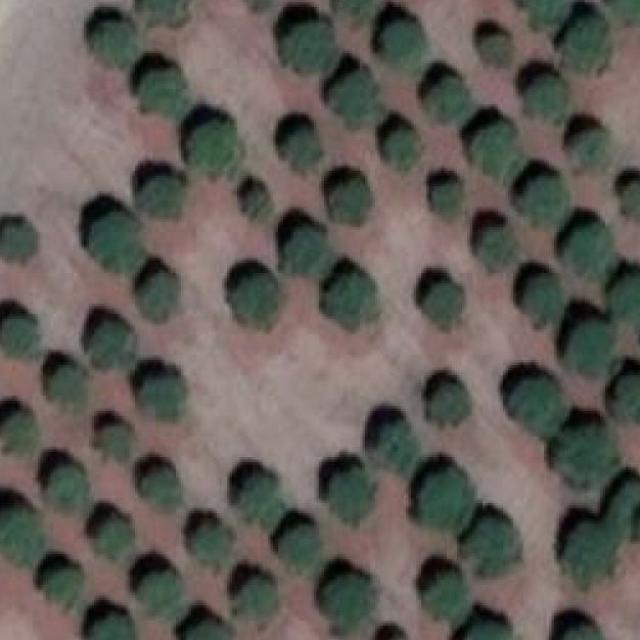Tree: (549, 424, 619, 489), (419, 467, 481, 534), (556, 12, 616, 74), (232, 268, 281, 337), (464, 516, 524, 572), (324, 273, 380, 329), (564, 523, 616, 583), (467, 125, 527, 176), (568, 319, 618, 380), (84, 215, 140, 269), (36, 462, 92, 516), (319, 572, 373, 628), (276, 18, 332, 72), (514, 174, 570, 228), (330, 70, 380, 130), (506, 381, 562, 432), (327, 468, 378, 522), (135, 568, 184, 622), (237, 469, 281, 529), (564, 222, 614, 273), (191, 122, 240, 174), (367, 422, 416, 471), (422, 570, 472, 618), (138, 176, 192, 220), (86, 20, 135, 68), (140, 373, 191, 419), (230, 578, 276, 628), (273, 522, 319, 572), (424, 72, 470, 122), (86, 319, 135, 365), (181, 522, 230, 568), (380, 18, 424, 68), (324, 181, 373, 225), (526, 72, 568, 122), (0, 511, 41, 562), (471, 227, 516, 273), (607, 477, 640, 539), (38, 568, 84, 612), (426, 378, 471, 422), (138, 273, 182, 317), (286, 225, 327, 271), (143, 72, 184, 118), (281, 124, 322, 170), (138, 467, 182, 508), (421, 283, 465, 324), (41, 365, 87, 404), (81, 610, 140, 640), (522, 276, 562, 320), (0, 220, 39, 264), (0, 411, 35, 457), (570, 130, 608, 171), (92, 424, 133, 460), (610, 275, 640, 324), (384, 128, 417, 172), (612, 372, 640, 423), (423, 179, 462, 215), (138, 0, 189, 26), (478, 32, 511, 72), (518, 0, 568, 26), (0, 317, 36, 353), (92, 513, 128, 549), (183, 617, 234, 640), (460, 620, 516, 640), (240, 186, 271, 220), (605, 0, 640, 28), (617, 181, 640, 222), (552, 622, 603, 640), (334, 0, 373, 15), (240, 0, 270, 12)
